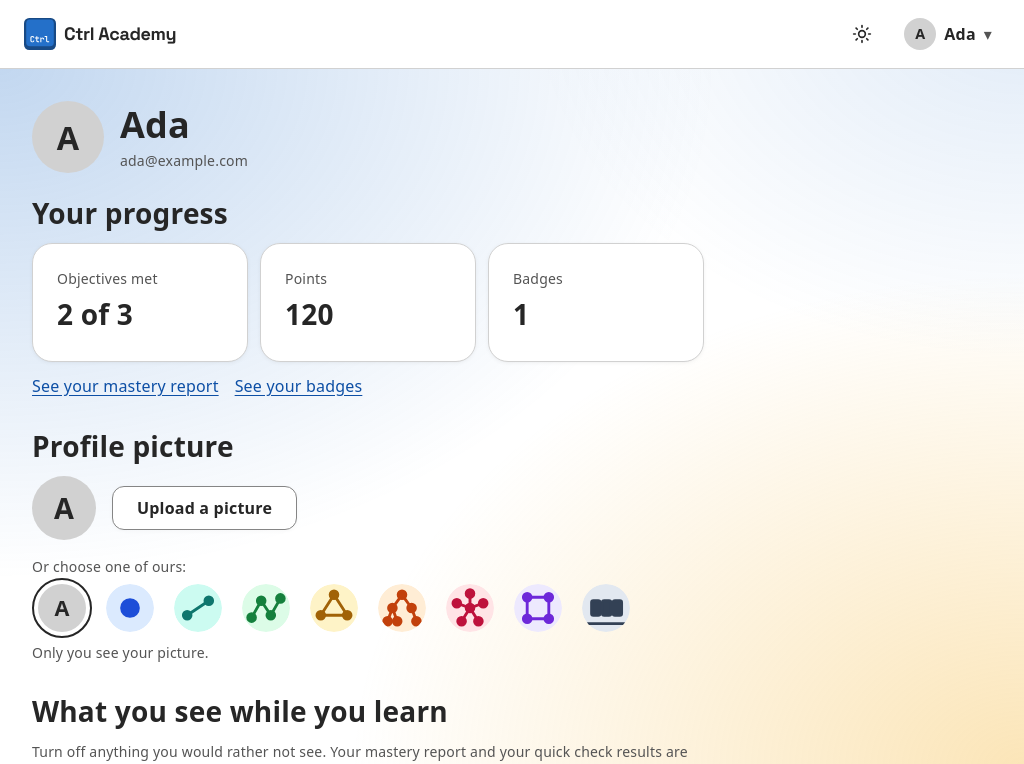
Scenario: profile page › saves a chosen picture and shows it in the menu
Click the radio button named "A tree".
click(402, 608)  # box [372, 578, 432, 638]
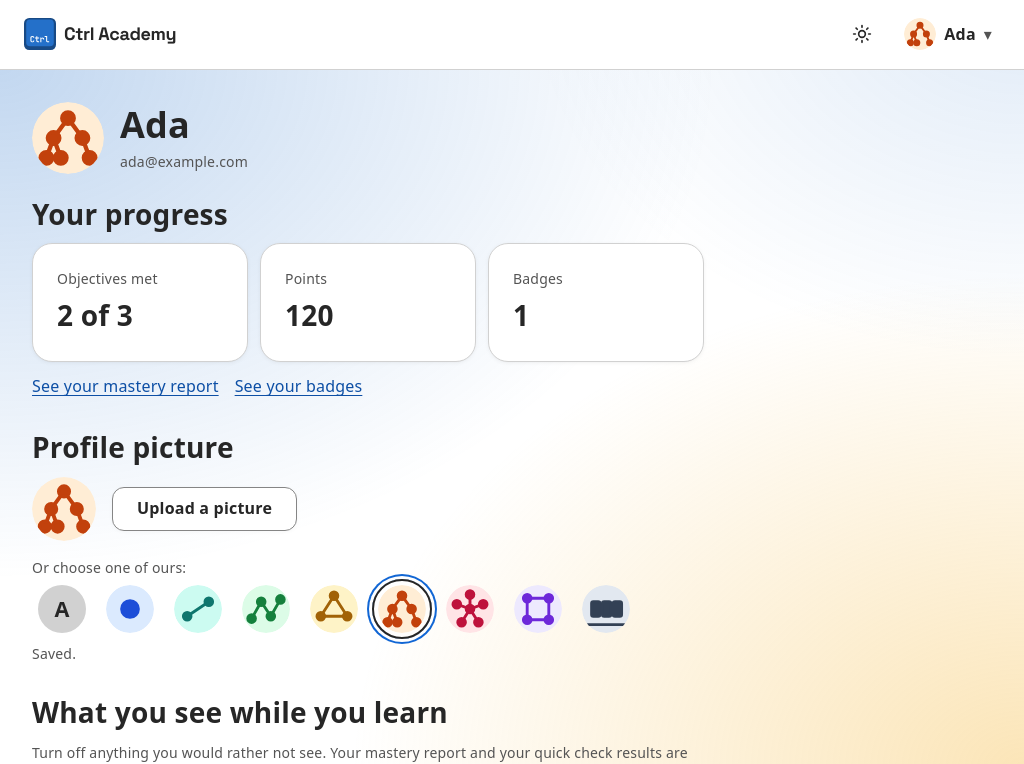
Expected: the radio button named "A tree" is checked, [372, 578, 432, 638]
Expected: the text "Saved." is shown, [32, 644, 76, 662]
Expected: the radio button named "Your initial" is not checked, [32, 578, 92, 638]
